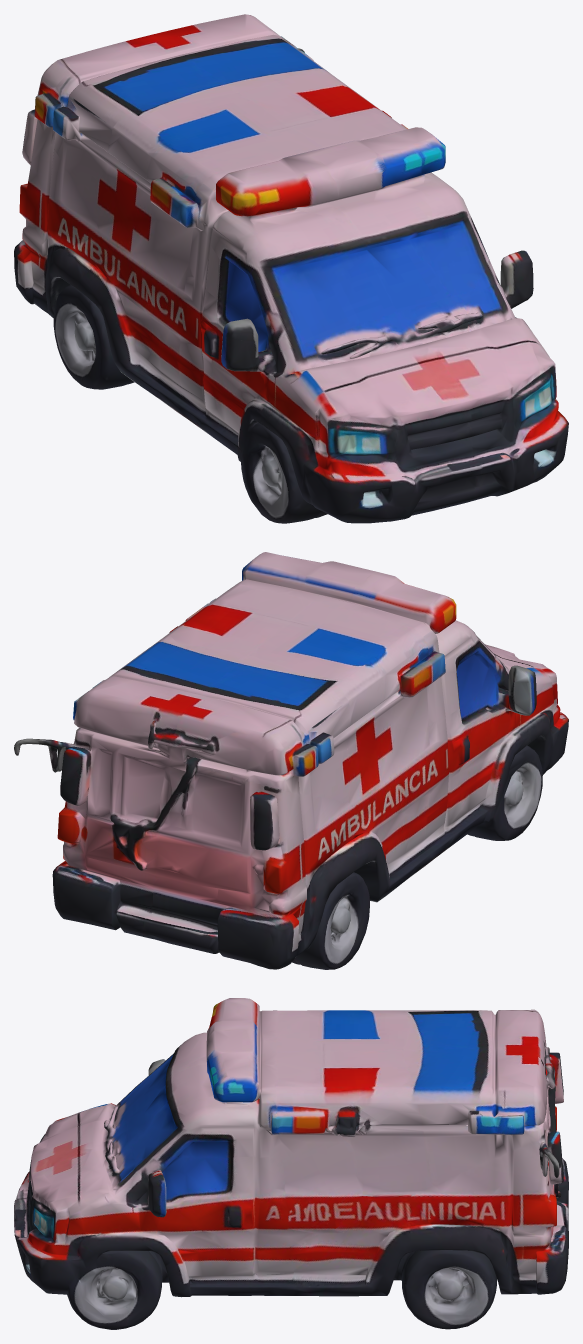
The model's file is ambulancia.glb.
3 renders of one model, top to bottom at view 1: azimuth 30°, elevation 25°; view 2: azimuth 150°, elevation 25°; view 3: azimuth 270°, elevation 25°, orthographic. The views are drawn at different scales.
Parts seen in each view (by area): view 1: tripo_node_9a27235b-481d-4111-bda6-55290dc4aa5d; view 2: tripo_node_9a27235b-481d-4111-bda6-55290dc4aa5d; view 3: tripo_node_9a27235b-481d-4111-bda6-55290dc4aa5d.
Part boxes in pixels (box(x1,y1,x2,y2)): tripo_node_9a27235b-481d-4111-bda6-55290dc4aa5d: box(14, 14, 568, 523); tripo_node_9a27235b-481d-4111-bda6-55290dc4aa5d: box(14, 552, 568, 969); tripo_node_9a27235b-481d-4111-bda6-55290dc4aa5d: box(14, 998, 568, 1329).
Size of the model in its own units: 0.5519 by 0.4901 by 0.9995.
1 material, 1 textured.
